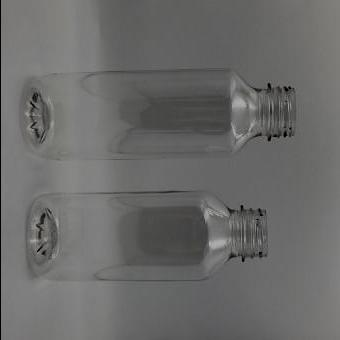bottle: (21, 66, 294, 164), (23, 192, 268, 279)
